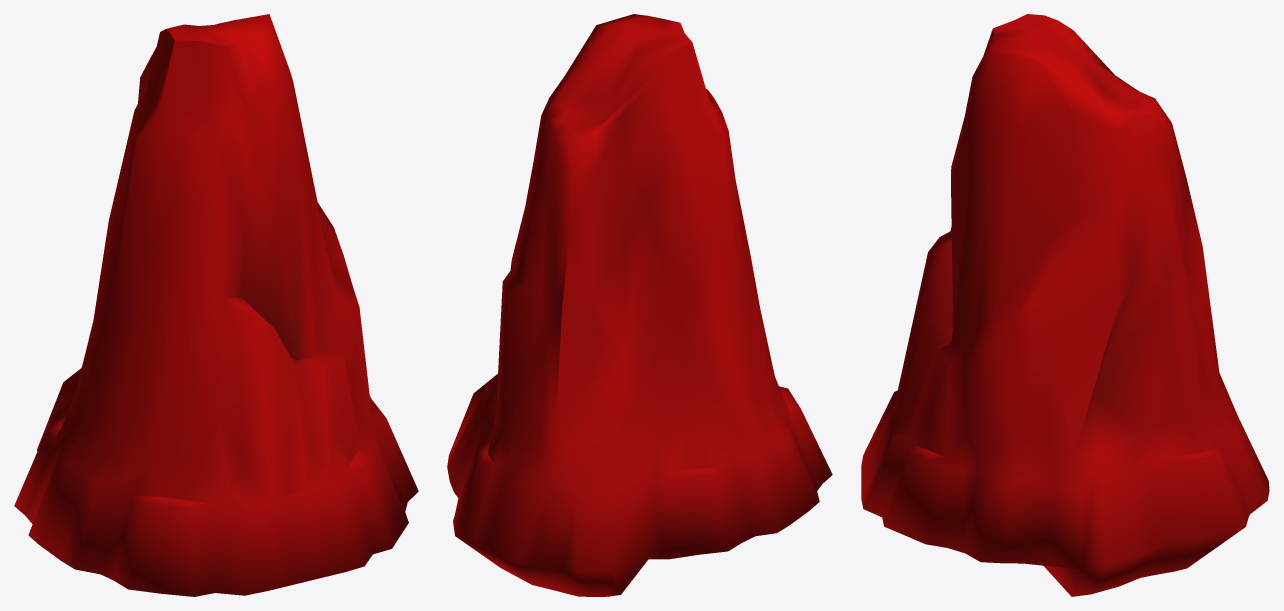
Rendered from geology-landforms-redstonemountain_v4.fbx.
3 views of the same model, side by side, from view 1: azimuth 30°, elevation 25°; view 2: azimuth 150°, elevation 25°; view 3: azimuth 270°, elevation 25° (orthographic). The views are drawn at different scales.
Visible parts, largest first — view 1: RedStoneMountain_v4; view 2: RedStoneMountain_v4; view 3: RedStoneMountain_v4.
Boxes of the visible parts, bbox=[...] form: RedStoneMountain_v4: bbox=[14, 14, 418, 596]; RedStoneMountain_v4: bbox=[447, 14, 832, 596]; RedStoneMountain_v4: bbox=[861, 14, 1269, 596].
Size of the model in its own units: 24.49 by 37.04 by 26.23.
